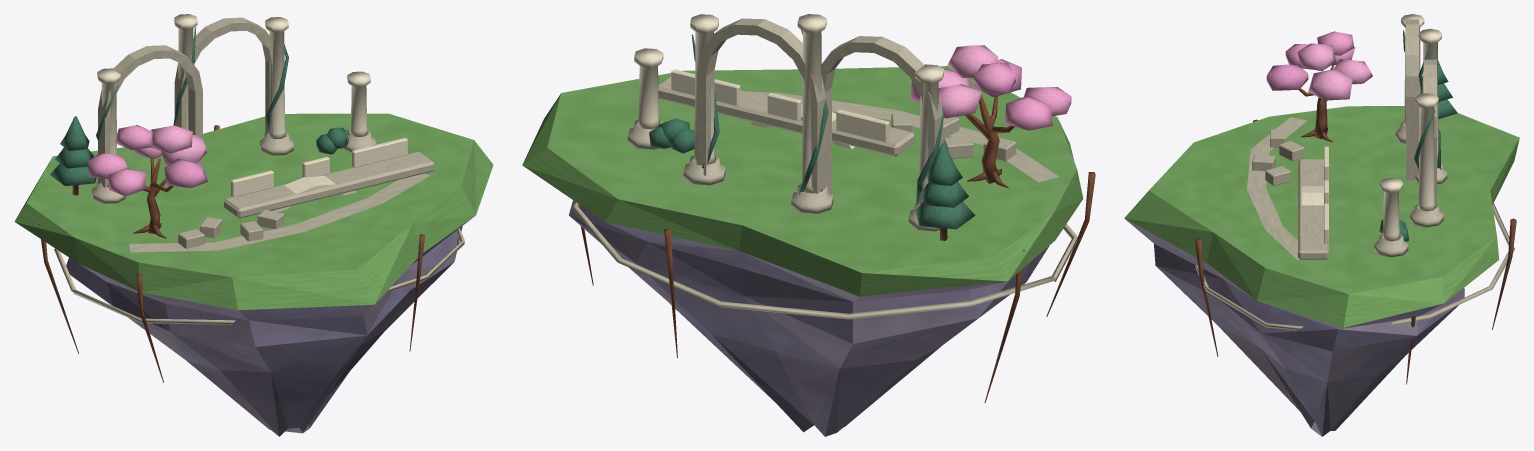
The model's file is sky-ruins-low.glb.
3 views of the same model, side by side, from view 1: azimuth 30°, elevation 25°; view 2: azimuth 150°, elevation 25°; view 3: azimuth 270°, elevation 25° (orthographic). The views are drawn at different scales.
Parts seen in each view (by area): view 1: sky-ruins; view 2: sky-ruins; view 3: sky-ruins.
Boxes of the visible parts, <box> form: sky-ruins: <box>14,14,493,436</box>; sky-ruins: <box>522,14,1095,436</box>; sky-ruins: <box>1124,14,1519,436</box>.
Bounding box in the file's own units: 13.43 × 11.56 × 11.16.
Materials: 7 (7 with a texture image).
